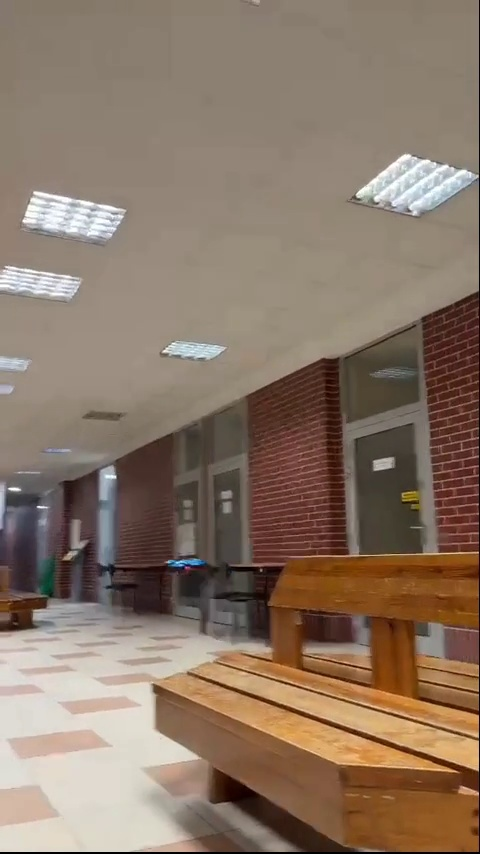drone: (163, 556, 206, 573)
